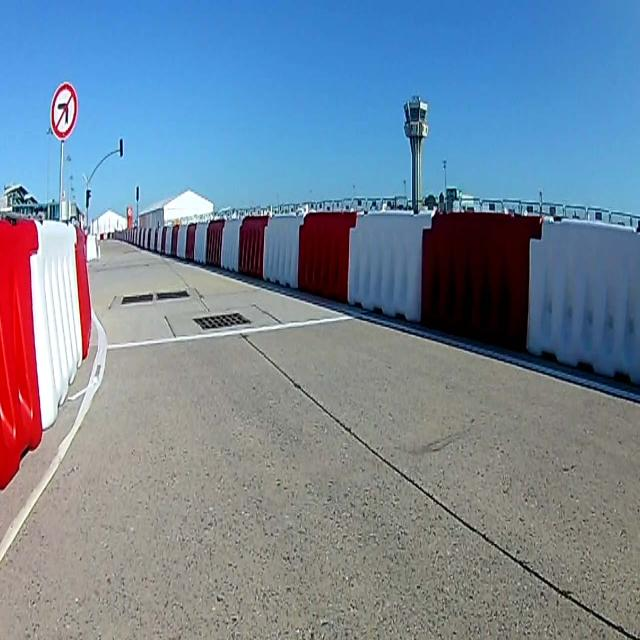soladonulmez: (50, 82, 76, 138)
